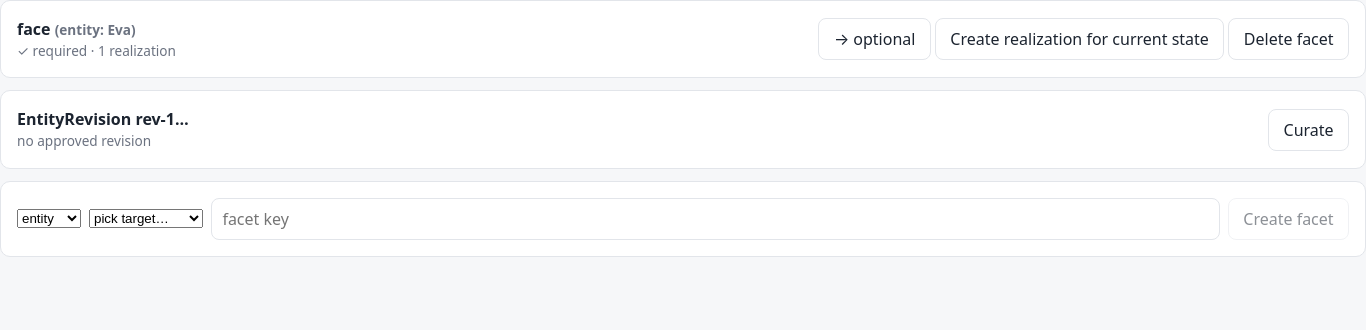
VisualIdentityPanel authoring (M8 §69–70) › renders a facet delete guard envelope verbatim (409)
Click the button "Delete facet": (1289, 39) [1228,18,1349,60]
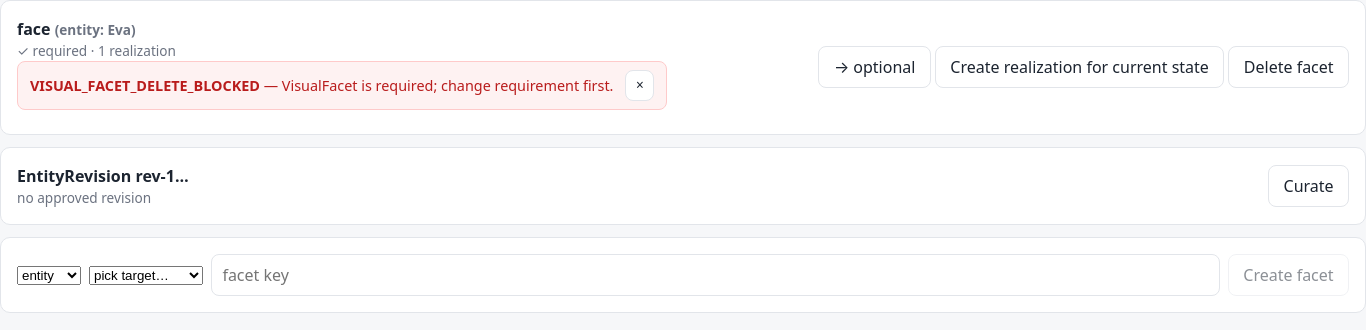
Expected: the text "VISUAL_FACET_DELETE_BLOCKED" is shown, [30,76,260,95]
